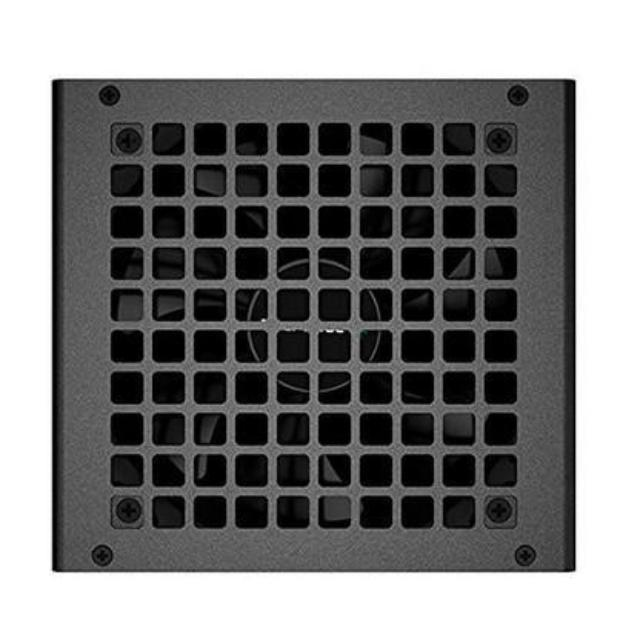PSU: (41, 58, 584, 587)
